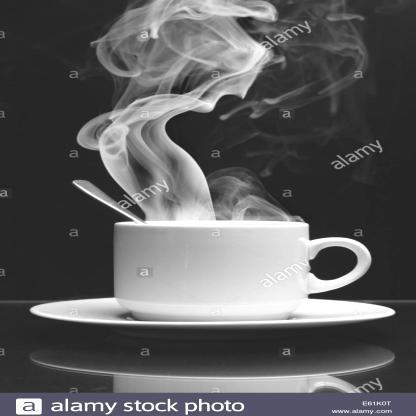smoke: (84, 0, 262, 218)
